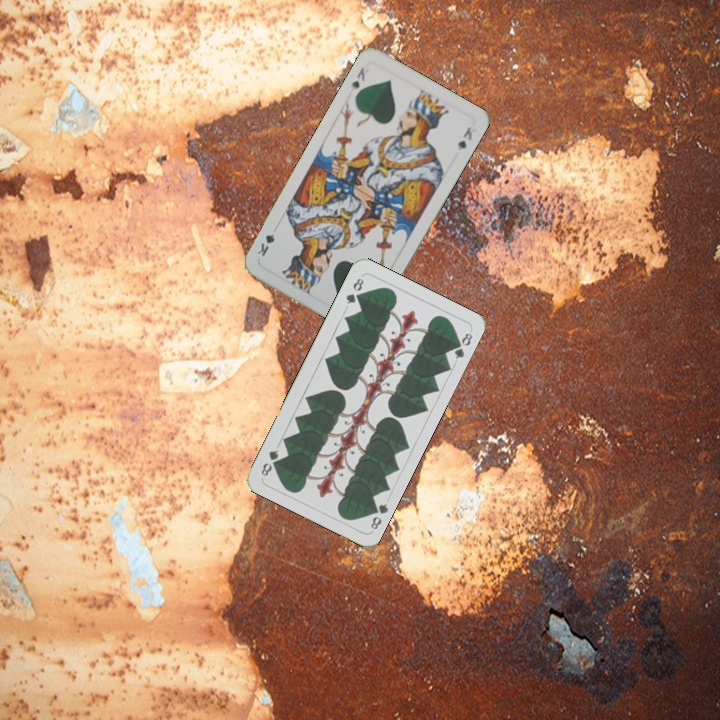G8: (366, 499, 391, 532), (342, 274, 366, 307)
GK: (346, 63, 368, 94)
